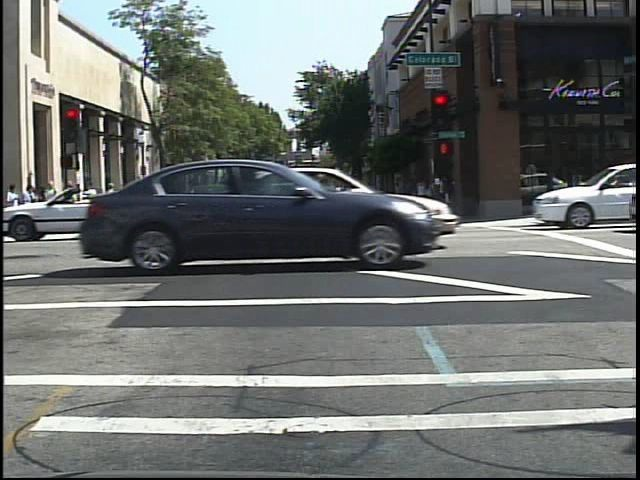person: (102, 179, 120, 225)
